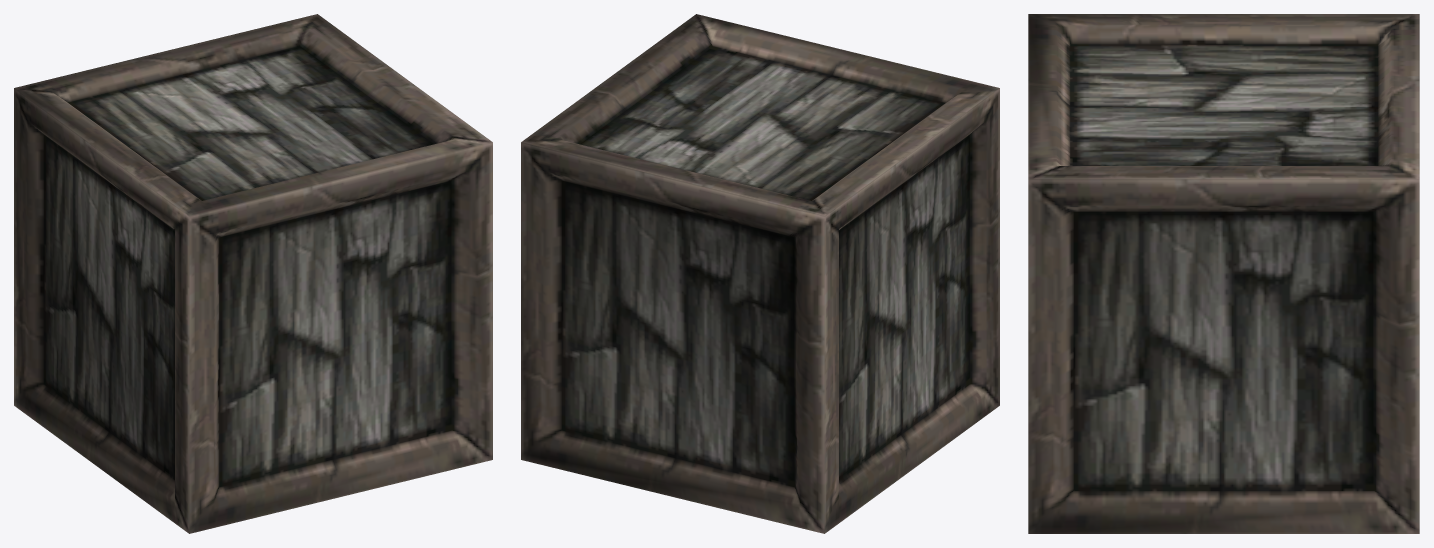
The model's file is INST_SWORDLIGHT_CRATE-DESTR.fbx.
3 views of the same model, side by side, from view 1: azimuth 30°, elevation 25°; view 2: azimuth 150°, elevation 25°; view 3: azimuth 270°, elevation 25° (orthographic). The views are drawn at different scales.
Visible parts, largest first — view 1: INST_SWORDLIGHT_CRATE-DESTR; view 2: INST_SWORDLIGHT_CRATE-DESTR; view 3: INST_SWORDLIGHT_CRATE-DESTR.
Part boxes in pixels (x1,y1,x2,y2): INST_SWORDLIGHT_CRATE-DESTR: (14, 14, 492, 533); INST_SWORDLIGHT_CRATE-DESTR: (521, 14, 999, 533); INST_SWORDLIGHT_CRATE-DESTR: (1028, 14, 1419, 533).
Size of the model in its own units: 7000 by 7000 by 7000.
1 material, 1 textured.
